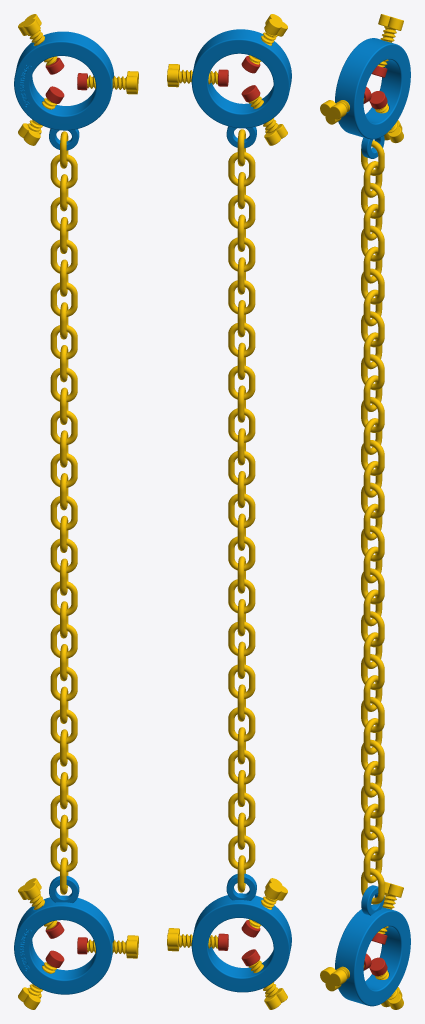
The model's file is ring-clamp-pair.glb.
3 views of the same model, side by side, from view 1: azimuth 30°, elevation 25°; view 2: azimuth 210°, elevation 25°; view 3: azimuth 270°, elevation 25° (orthographic).
Visible parts, largest first — view 1: display-part-001, display-part-008, display-part-004, display-part-011, display-part-009, display-part-002, display-part-013, display-part-006, display-part-034, display-part-016, display-part-020, display-part-036 (+13 smaller); view 2: display-part-001, display-part-008, display-part-011, display-part-004, display-part-009, display-part-006, display-part-002, display-part-013, display-part-016, display-part-030, display-part-040, display-part-028 (+13 smaller); view 3: display-part-001, display-part-008, display-part-009, display-part-002, display-part-004, display-part-033, display-part-019, display-part-031, display-part-045, display-part-017, display-part-035, display-part-037 (+33 smaller).
Part boxes in pixels (<box>): display-part-001: <box>14,31,114,150</box>; display-part-008: <box>14,876,114,994</box>; display-part-004: <box>18,14,57,65</box>; display-part-011: <box>18,878,57,929</box>; display-part-009: <box>87,935,138,958</box>; display-part-002: <box>87,71,138,94</box>; display-part-013: <box>18,962,56,1009</box>; display-part-006: <box>18,98,56,145</box>; display-part-034: <box>50,538,77,573</box>; display-part-016: <box>50,154,77,188</box>; display-part-020: <box>50,239,77,274</box>; display-part-036: <box>50,581,77,615</box>; display-part-001: <box>191,29,291,148</box>; display-part-008: <box>191,873,291,992</box>; display-part-011: <box>248,878,287,928</box>; display-part-004: <box>248,14,287,64</box>; display-part-009: <box>167,928,218,951</box>; display-part-006: <box>248,95,287,145</box>; display-part-002: <box>167,64,218,87</box>; display-part-013: <box>248,959,287,1009</box>; display-part-016: <box>228,152,255,186</box>; display-part-030: <box>228,451,255,485</box>; display-part-040: <box>228,664,255,699</box>; display-part-028: <box>228,408,255,442</box>; display-part-001: <box>335,38,410,158</box>; display-part-008: <box>335,885,410,1006</box>; display-part-009: <box>320,965,364,991</box>; display-part-002: <box>320,98,364,124</box>; display-part-004: <box>377,14,403,67</box>; display-part-033: <box>361,525,384,561</box>; display-part-019: <box>361,225,384,261</box>; display-part-031: <box>361,482,384,518</box>; display-part-045: <box>361,782,384,818</box>; display-part-017: <box>361,182,384,218</box>; display-part-035: <box>361,568,384,604</box>; display-part-037: <box>361,611,384,647</box>.
Size of the model in its own units: 0.3152 by 3 by 0.249.
